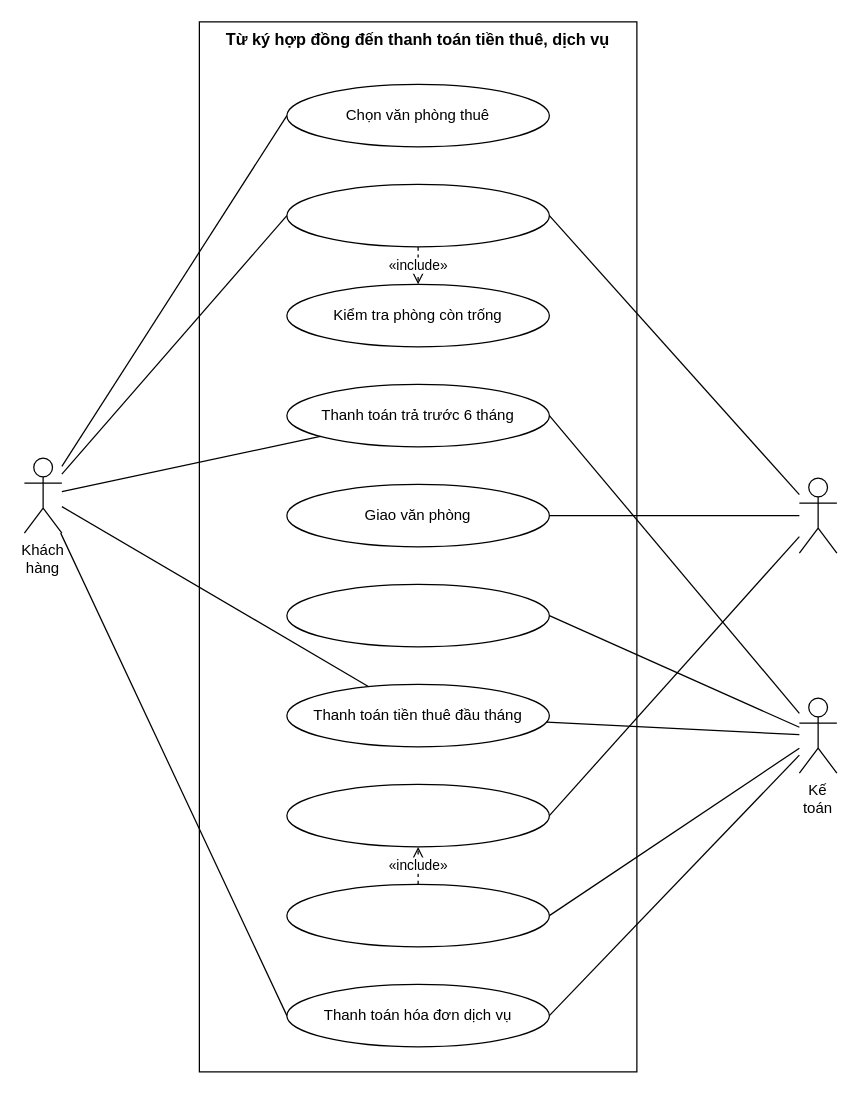
This 859x1094 diagram has some shape labels left out. Here are the shapes that lost their labels. From the top down, the centre of each, then its label:
pixel 417 215: Ký hợp đồng thuê
pixel 817 515: Nhân viên quản lý
pixel 417 615: Lập hóa đơn tiền thuê tháng (từ tháng 7)
pixel 417 815: Ghi nhận chỉ số dịch vụ
pixel 417 915: Lập hóa đơn dịch vụ cuối tháng
